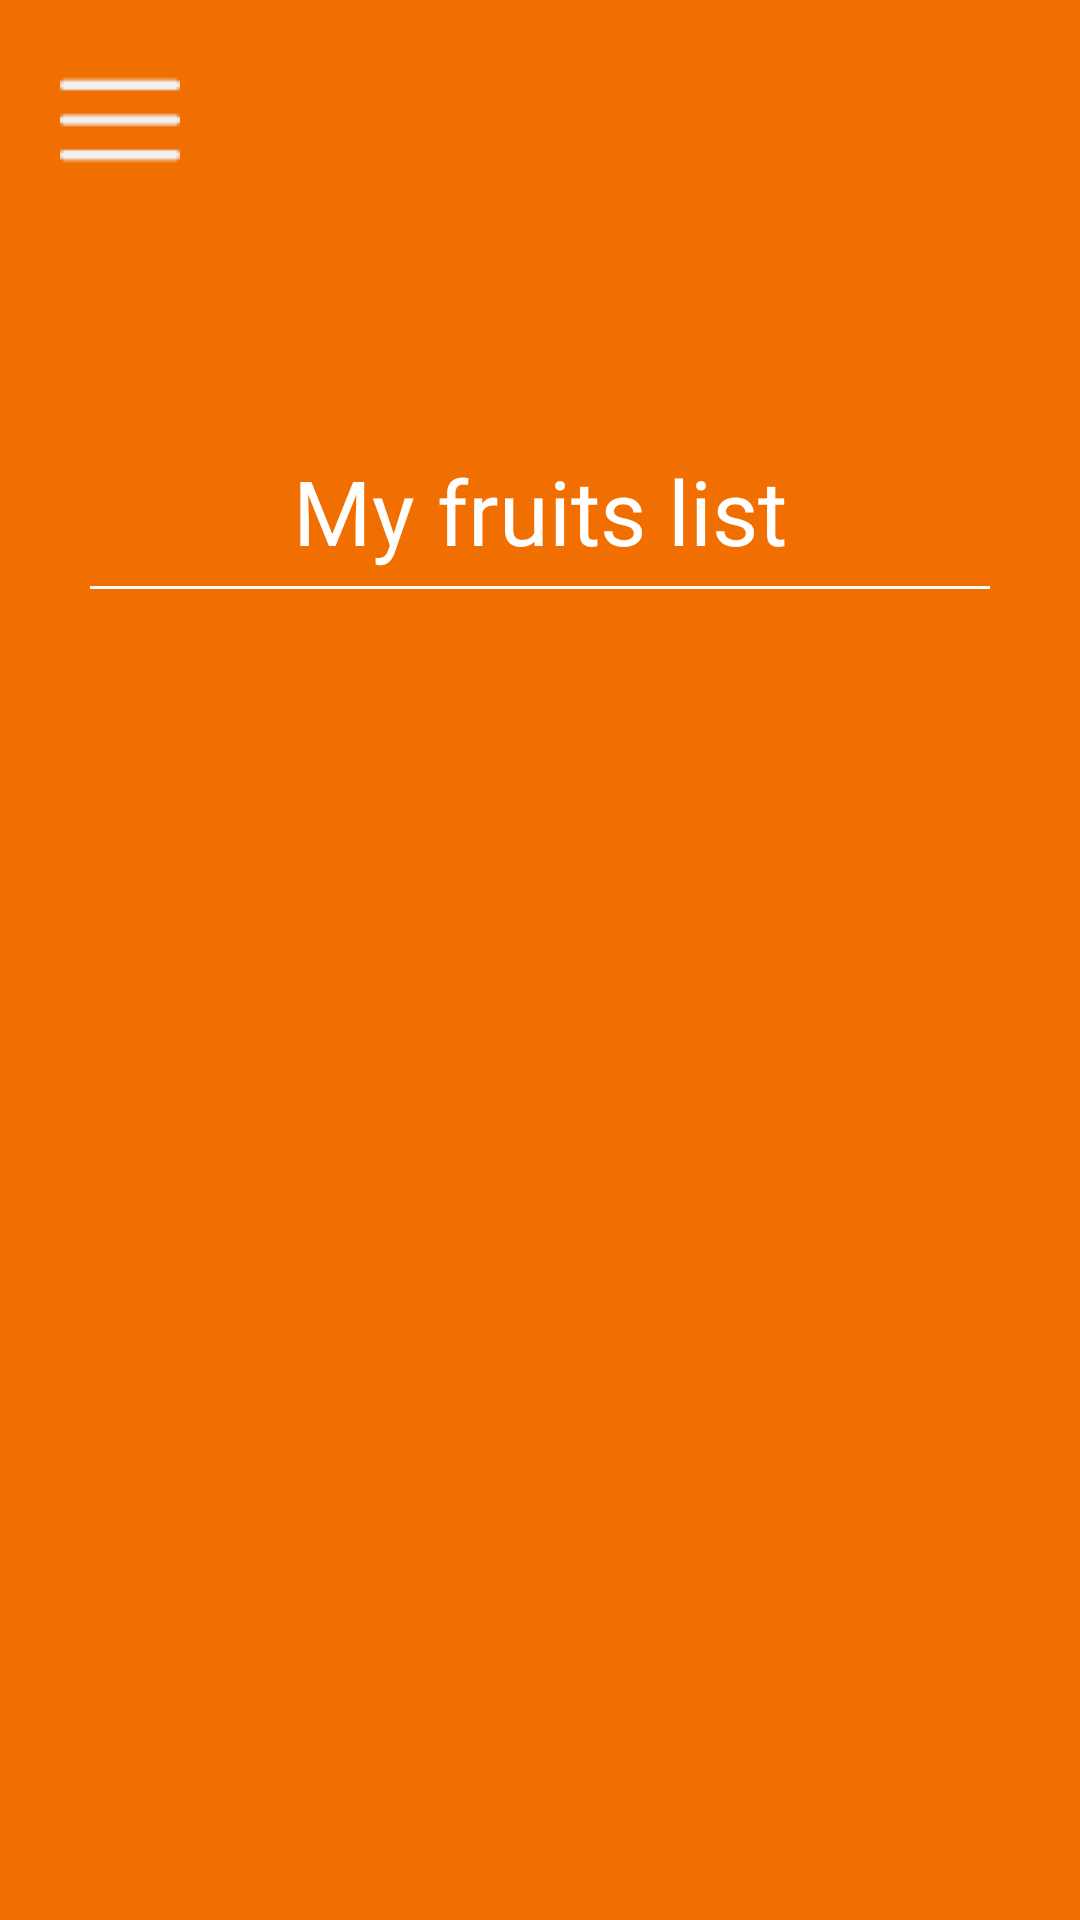

Locate icon controls on the screen. Image size 1080×1920, boxes as (x1, y1, x2, y2).
menu: (60, 77, 180, 163)
